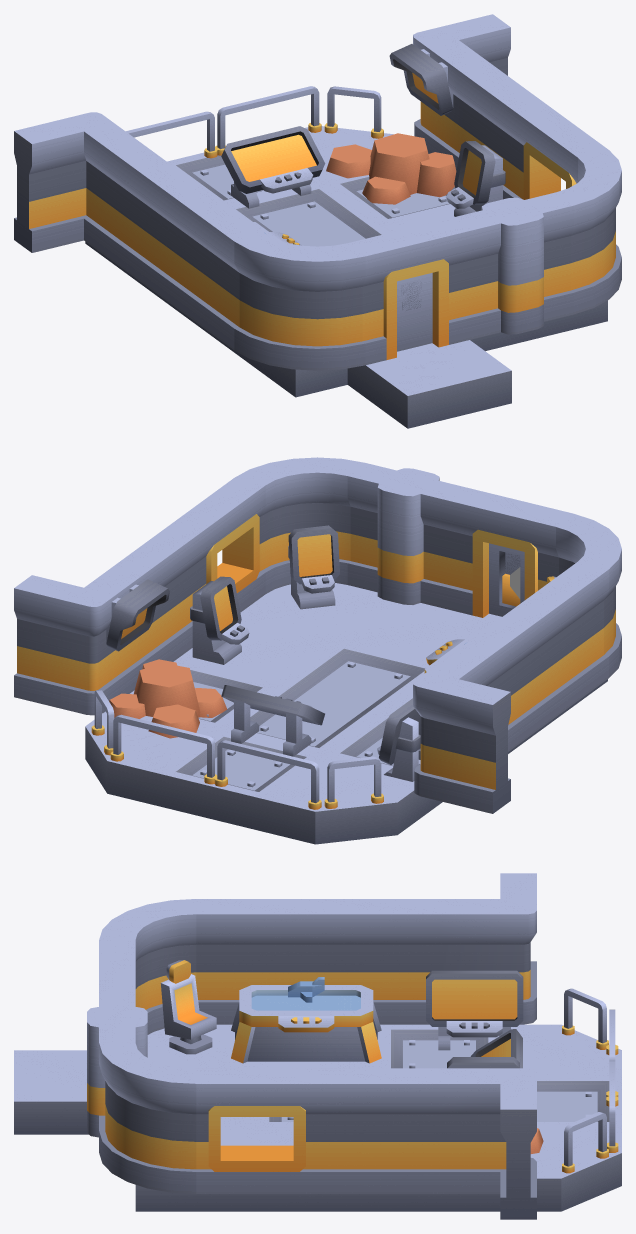
Rendered from spacestation.glb.
3 renders of one model, top to bottom at view 1: azimuth 30°, elevation 25°; view 2: azimuth 150°, elevation 25°; view 3: azimuth 270°, elevation 25°, orthographic.
Visible parts, largest first — view 1: wall-corner-round-banner.001, wall-pillar-banner, wall-corner-banner, wall-door-banner, floor.002, wall-banner.002, wall-banner, wall-corner-round-banner, wall-corner-banner.001, rocks, wall-banner.001, computer-wide (+14 smaller); view 2: wall-corner-banner.001, wall-pillar-banner, wall-corner-banner, floor-corner, wall-door-banner, wall-corner-round-banner, wall-banner, floor-panel.003, wall-window-banner, wall-banner.001, wall-banner.002, floor-panel-end (+20 smaller); view 3: wall-banner.001, wall-window-banner, wall-corner-banner.001, wall-corner-round-banner, wall-banner.002, wall-banner, table-display, wall-corner-banner, computer-screen, wall-corner-round-banner.001, floor.002, floor-corner.001 (+17 smaller).
Boxes of the visible parts, bbox=[...] form: wall-corner-round-banner.001: bbox=[234, 234, 365, 370]; wall-pillar-banner: bbox=[452, 192, 573, 339]; wall-corner-banner: bbox=[14, 112, 144, 261]; wall-door-banner: bbox=[348, 218, 469, 364]; floor.002: bbox=[347, 340, 511, 428]; wall-banner.002: bbox=[114, 146, 204, 305]; wall-banner: bbox=[174, 190, 264, 349]; wall-corner-round-banner: bbox=[556, 150, 621, 314]; wall-corner-banner.001: bbox=[413, 14, 510, 170]; rocks: bbox=[326, 133, 456, 204]; wall-banner.001: bbox=[457, 62, 548, 199]; computer-wide: bbox=[221, 126, 325, 208]; wall-corner-banner.001: bbox=[14, 566, 145, 715]; wall-pillar-banner: bbox=[347, 463, 469, 610]; wall-corner-banner: bbox=[413, 649, 510, 813]; floor-corner: bbox=[263, 755, 427, 844]; wall-door-banner: bbox=[451, 488, 573, 617]; wall-corner-round-banner: bbox=[235, 457, 364, 593]; wall-banner: bbox=[518, 561, 608, 721]; floor-panel.003: bbox=[159, 730, 322, 831]; wall-window-banner: bbox=[174, 478, 265, 612]; wall-banner.001: bbox=[114, 522, 205, 663]; wall-banner.002: bbox=[458, 605, 548, 751]; floor-panel-end: bbox=[280, 642, 429, 711]; wall-banner.001: bbox=[318, 1068, 439, 1193]; wall-window-banner: bbox=[196, 1068, 317, 1193]; wall-corner-banner.001: bbox=[439, 1068, 536, 1219]; wall-corner-round-banner: bbox=[99, 1042, 196, 1193]; wall-banner.002: bbox=[318, 899, 439, 1024]; wall-banner: bbox=[196, 899, 317, 1024]; table-display: bbox=[231, 985, 381, 1063]; wall-corner-banner: bbox=[439, 873, 536, 1024]; computer-screen: bbox=[426, 970, 523, 1050]; wall-corner-round-banner.001: bbox=[99, 899, 196, 1034]; floor.002: bbox=[14, 1050, 88, 1134]; floor-corner.001: bbox=[530, 1127, 621, 1211].
Bounding box in the file's own units: 9.2 × 2.62 × 10.
Materials: 1 (1 with a texture image).
